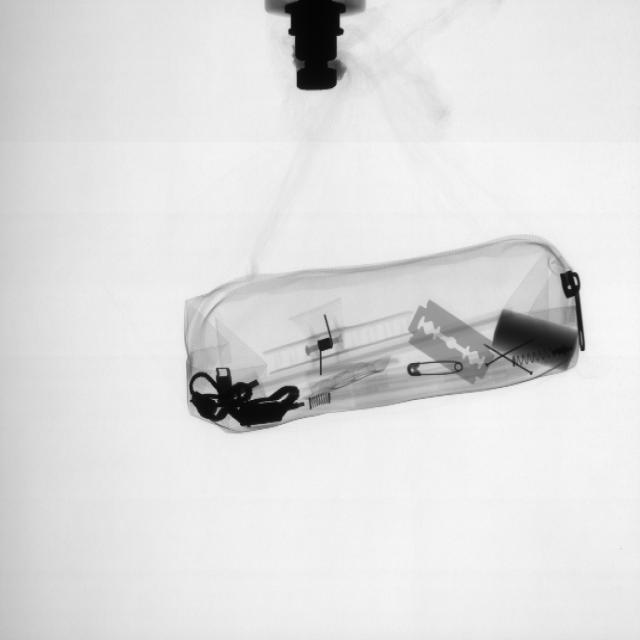BLADE: (405, 296, 501, 382)
